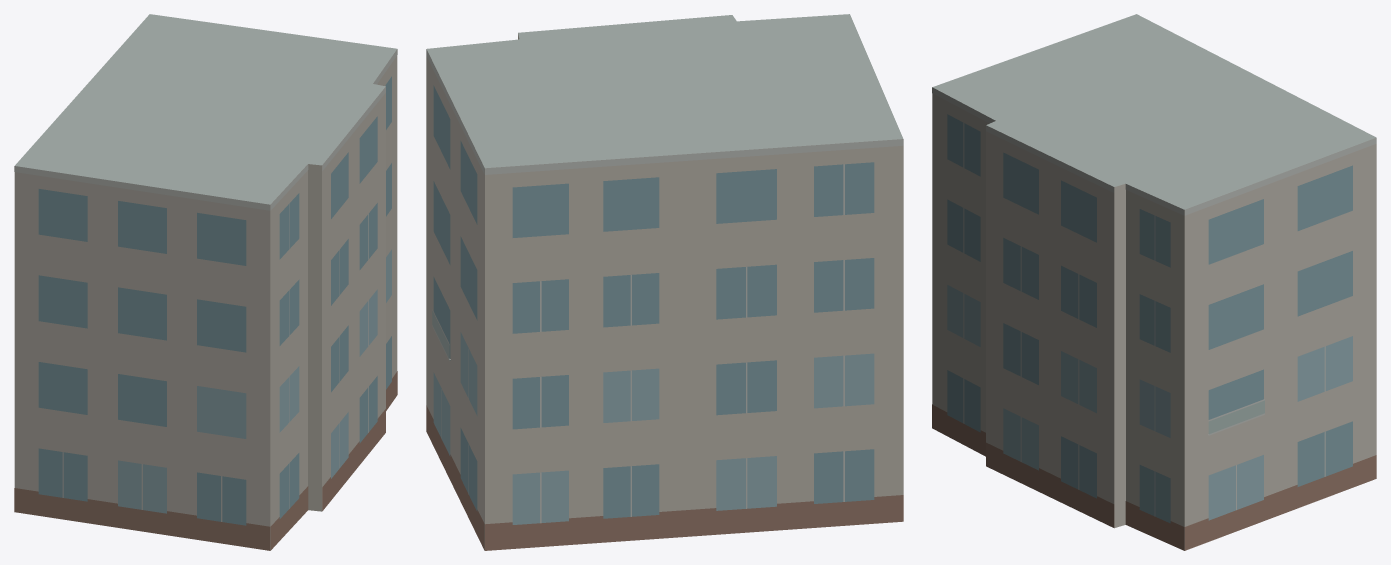
Rendered from survey-upis-32840179.glb.
3 renders of one model, left to right at view 1: azimuth 30°, elevation 25°; view 2: azimuth 150°, elevation 25°; view 3: azimuth 270°, elevation 25°, orthographic. The views are drawn at different scales.
Parts seen in each view (by area): view 1: survey-upis-32840179.tmp; view 2: survey-upis-32840179.tmp; view 3: survey-upis-32840179.tmp.
Boxes of the visible parts, x1,y1,x2,y2 form: survey-upis-32840179.tmp: [14, 14, 397, 550]; survey-upis-32840179.tmp: [426, 14, 903, 550]; survey-upis-32840179.tmp: [932, 14, 1376, 550].
Bounding box in the file's own units: 17 × 13.8 × 16.31.
